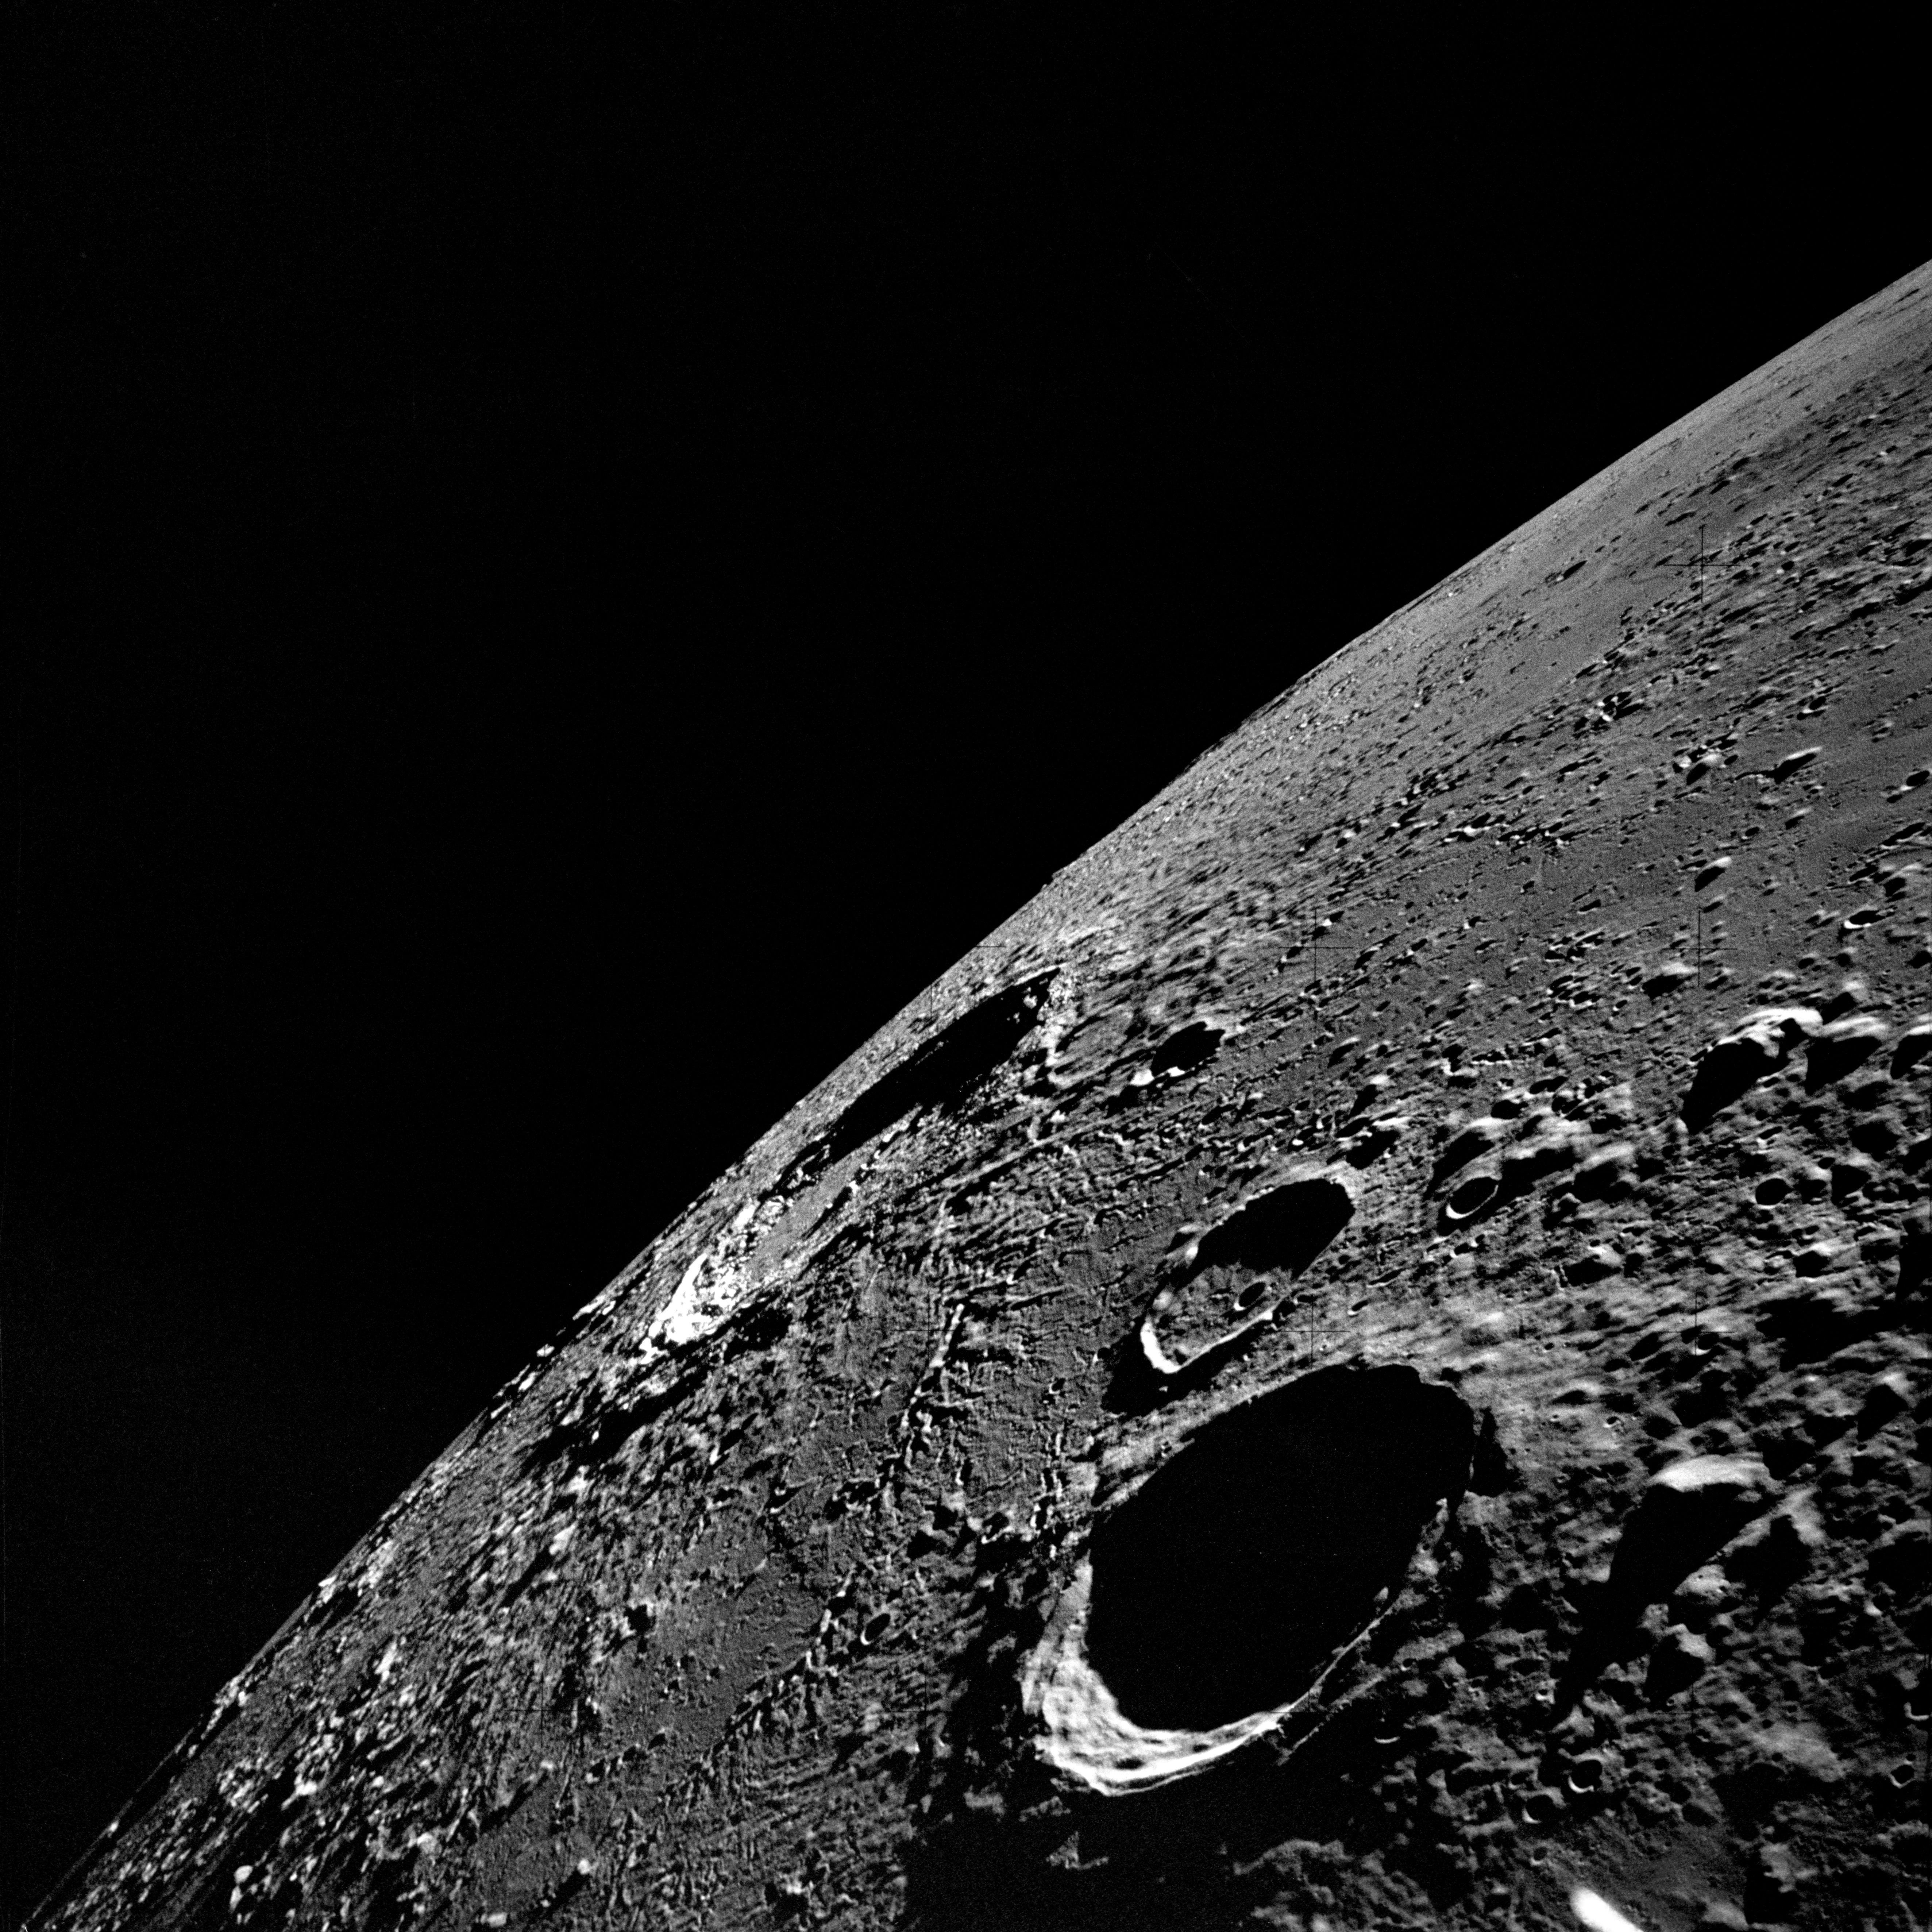crater: (327, 688, 1127, 1426), (938, 1159, 1674, 1874), (1102, 897, 1353, 1127)
